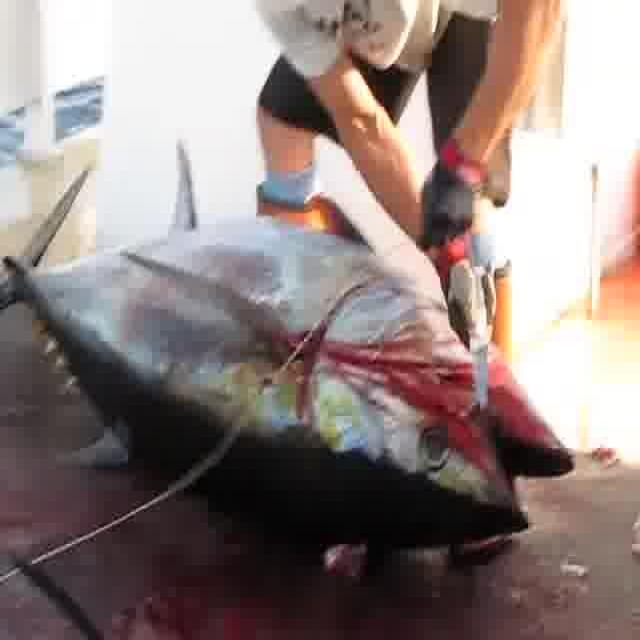Big Eye Tuna: (1, 134, 577, 554)
